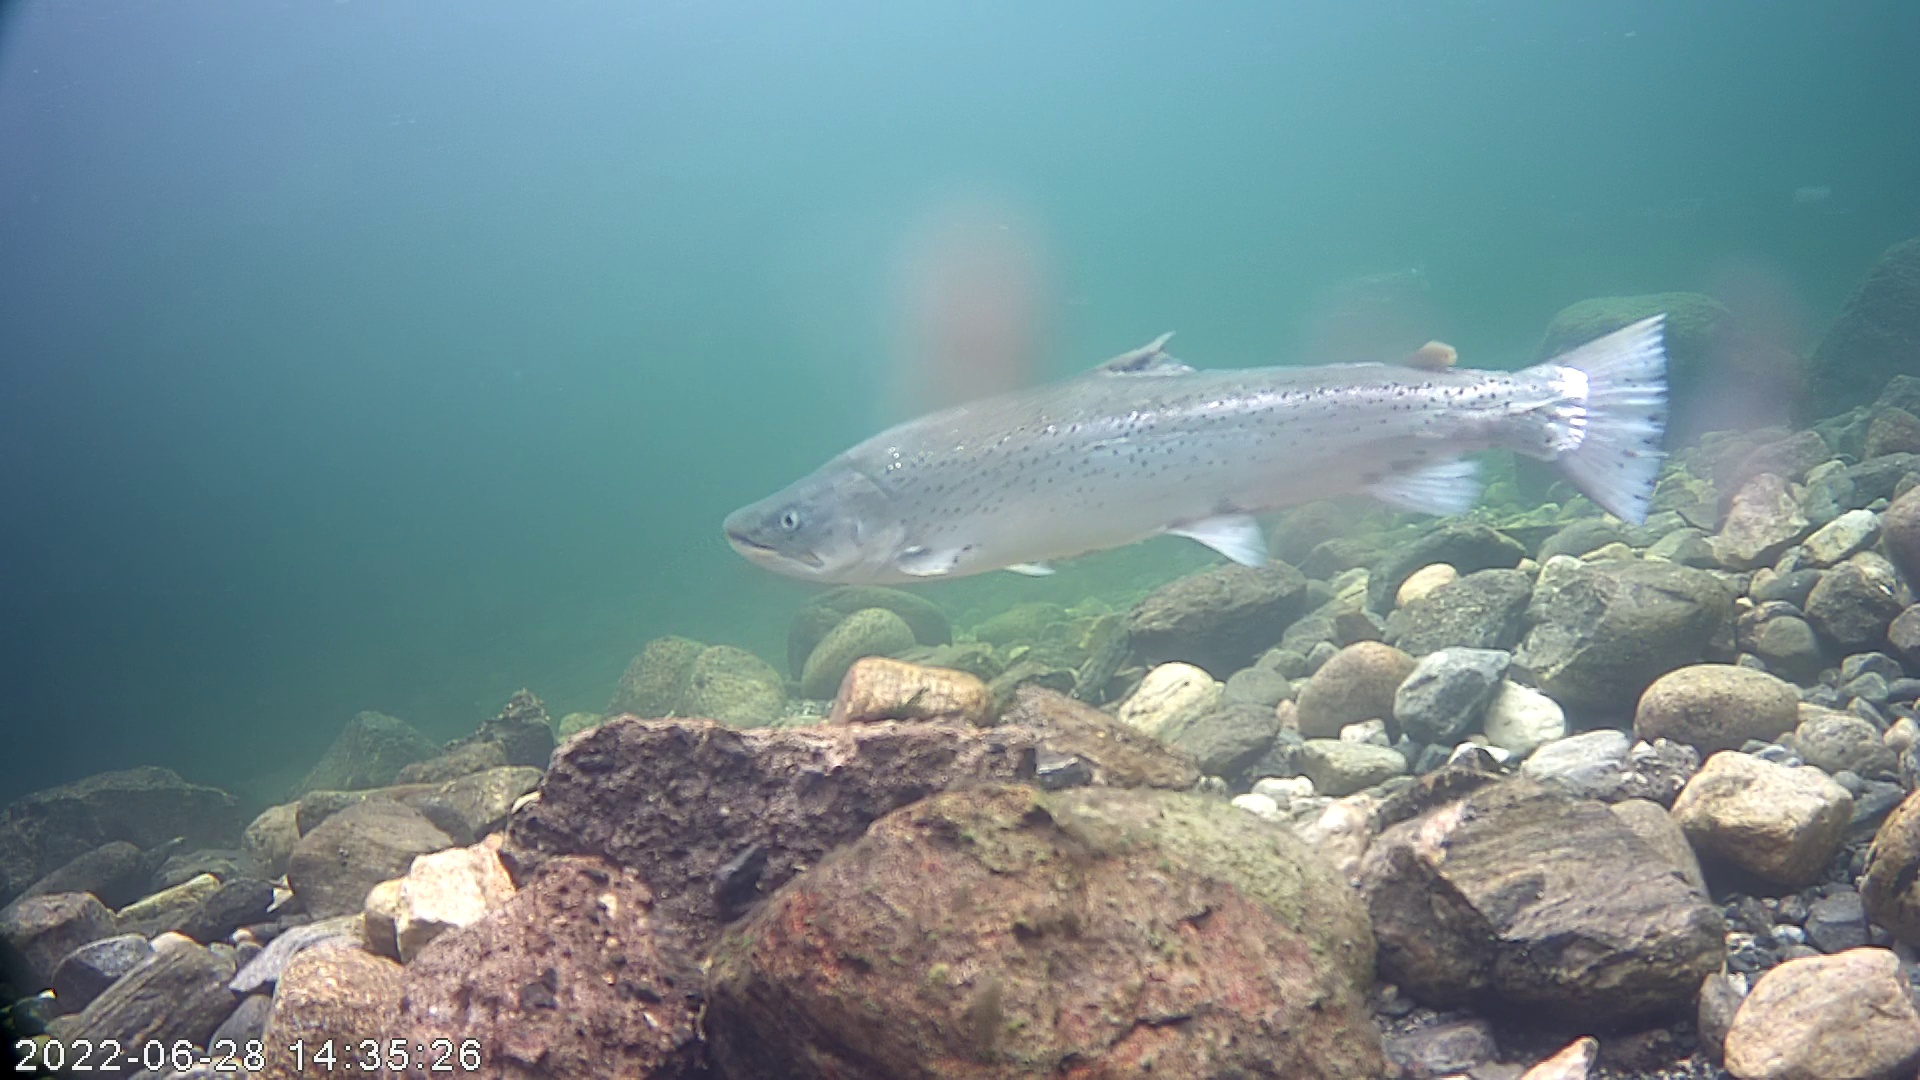salmon: (702, 198, 1702, 636)
